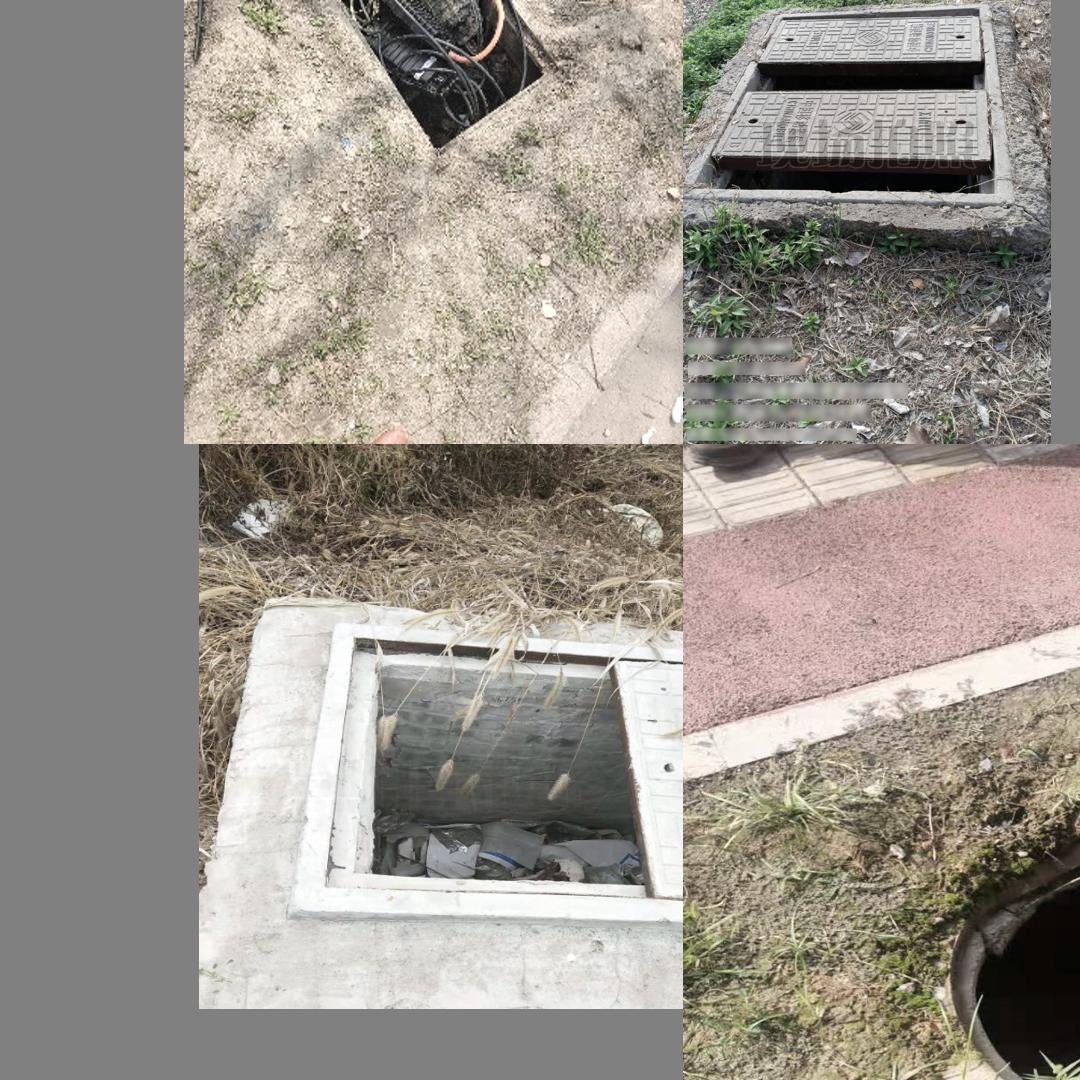lose: (286, 623, 681, 921), (683, 3, 1014, 209), (931, 784, 1080, 1080), (285, 0, 559, 154)
